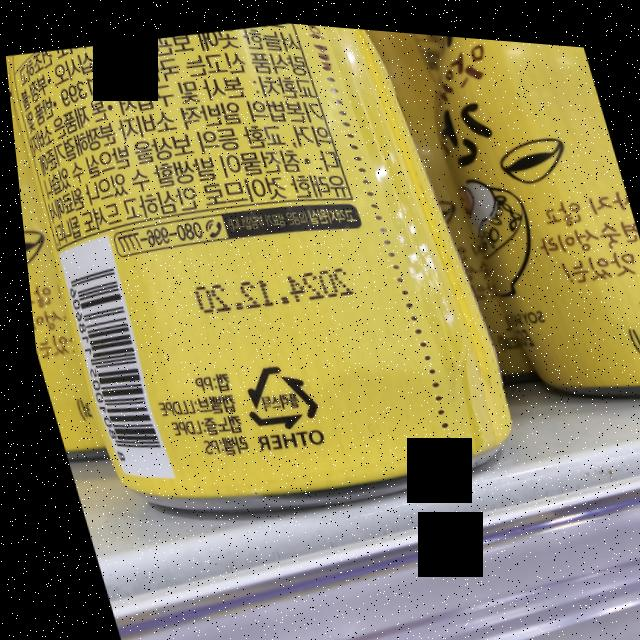Plastic: (223, 349, 321, 436)
